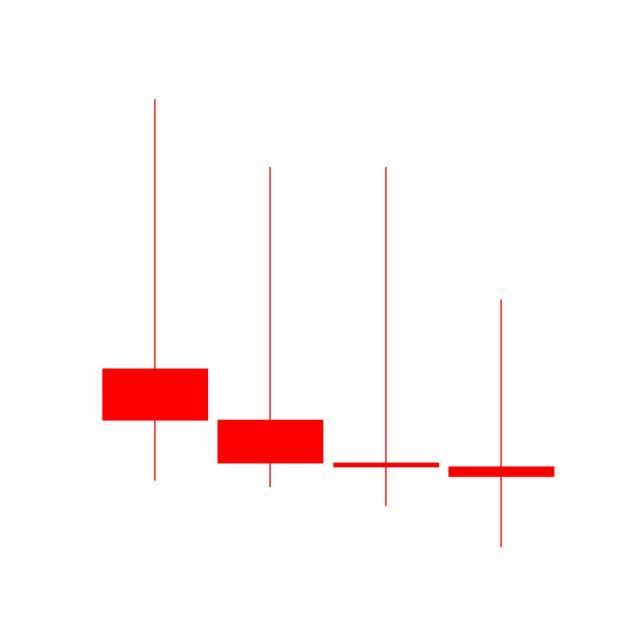Spinning Top: (329, 164, 445, 511)
